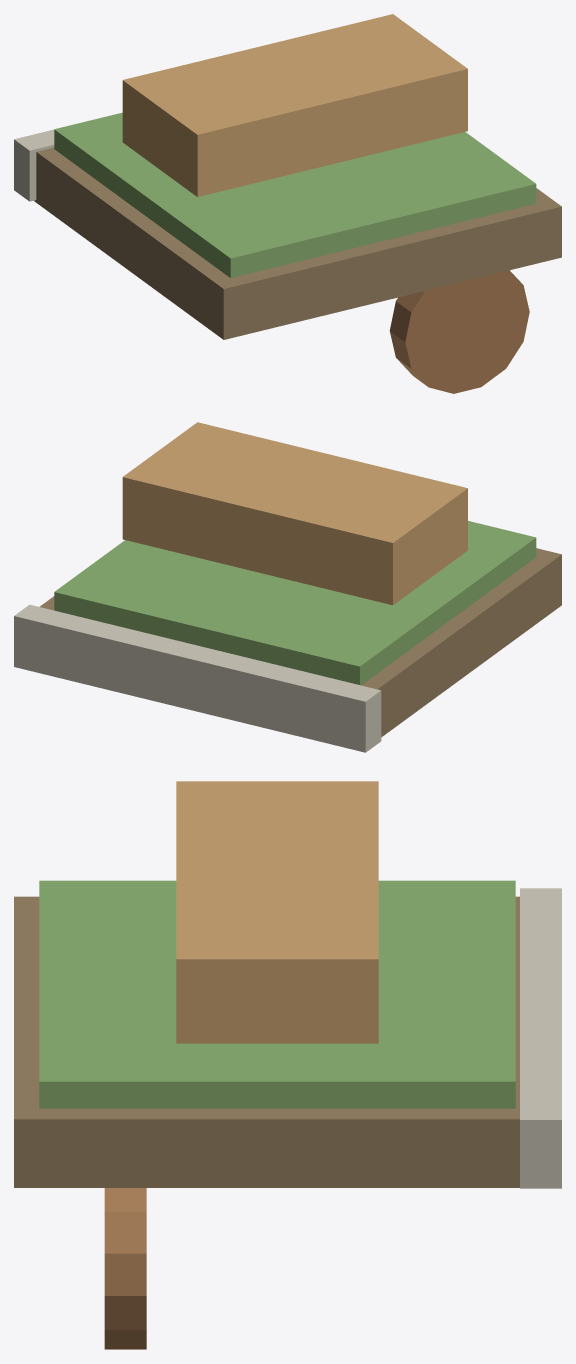
The model's file is 21_XeBo.glb.
3 renders of one model, top to bottom at view 1: azimuth 30°, elevation 25°; view 2: azimuth 150°, elevation 25°; view 3: azimuth 270°, elevation 25°, orthographic. The views are drawn at different scales.
Parts seen in each view (by area): view 1: cart, grass, soil, wheel, border; view 2: cart, grass, border, soil; view 3: grass, cart, soil, border, wheel.
Part boxes in pixels (bbox=[...]): cart: bbox=[122, 14, 467, 196]; grass: bbox=[54, 112, 536, 277]; soil: bbox=[34, 147, 561, 339]; wheel: bbox=[389, 270, 529, 393]; border: bbox=[14, 129, 54, 201]; cart: bbox=[122, 422, 467, 605]; grass: bbox=[54, 521, 536, 685]; border: bbox=[14, 604, 381, 752]; soil: bbox=[39, 548, 561, 737]; grass: bbox=[39, 880, 515, 1108]; cart: bbox=[176, 781, 378, 1043]; soil: bbox=[14, 896, 519, 1187]; border: bbox=[520, 888, 561, 1188]; wheel: bbox=[104, 1188, 146, 1349].
Bounding box in the file's own units: 1.3 × 1.04 × 1.3.
